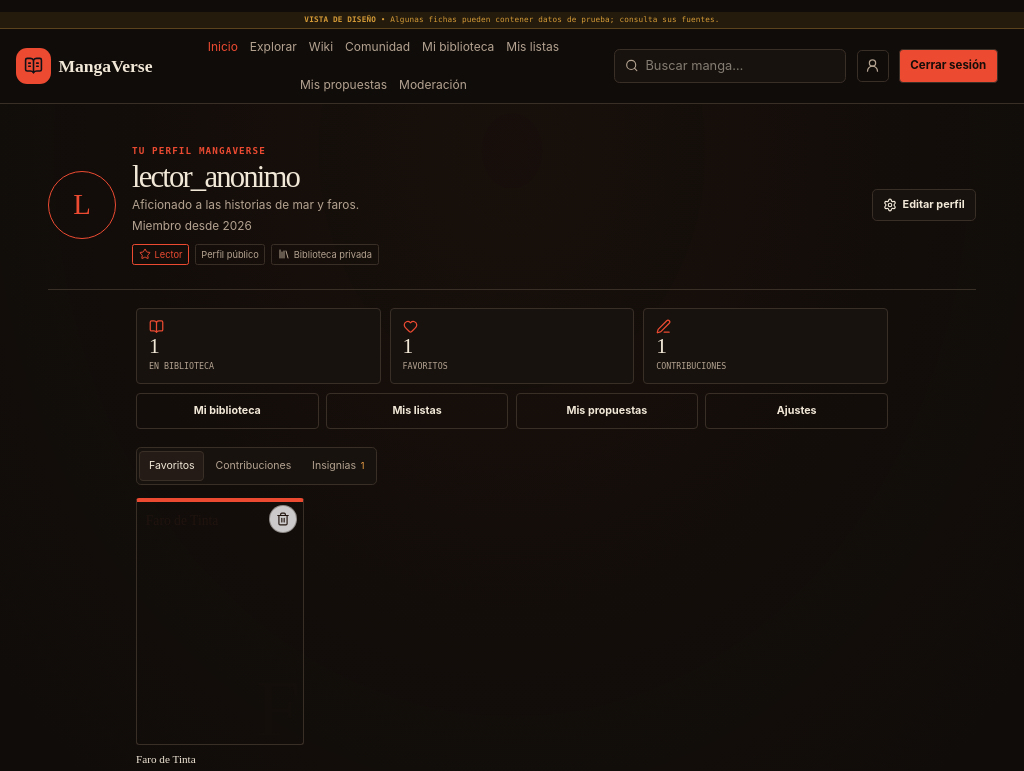
Test: ProfileSettingsPage › shows profile stats and switches between favorites, contributions, and badges
Check: the heading "lector_anonimo" is shown, box [132,160,299,194]
Check: the text "Aficionado a las historias de mar y faros." is shown, box [132,198,359,212]
What coordinates should you click on to do the following:
click the tab "Contribuciones"
I would click on:
 (253, 466)
Its box is [207,452,300,480].
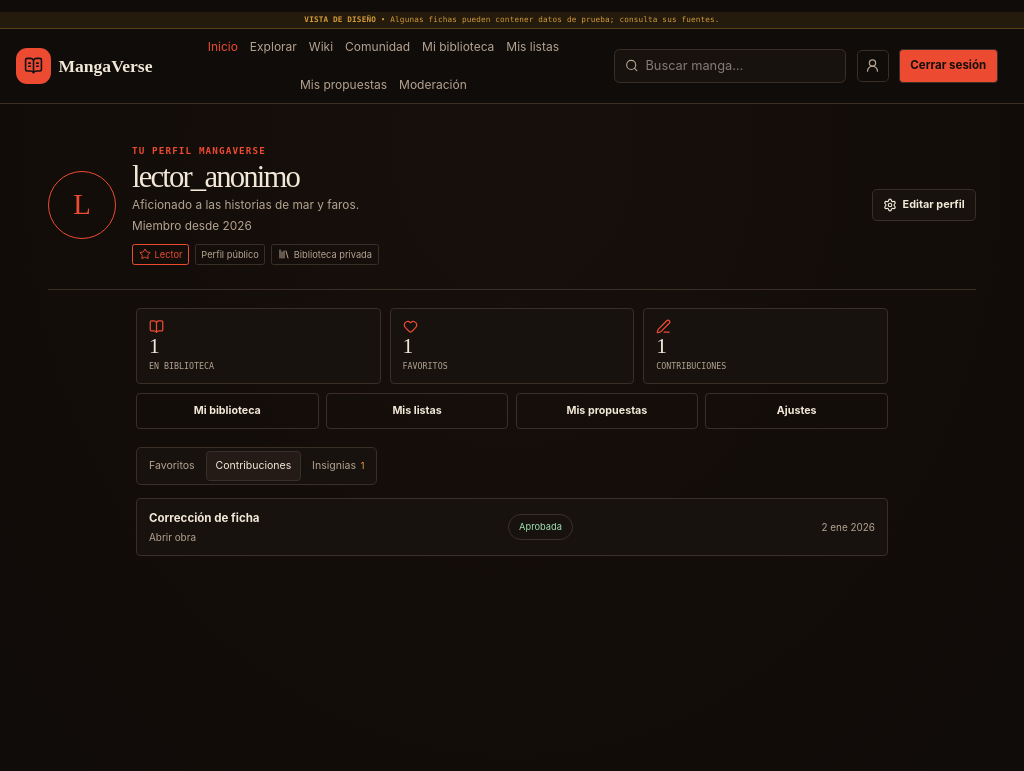
Check: the text "Corrección de ficha" is shown, box [149,510,260,527]
What coordinates should you click on to do the following:
click the tab "Insignias 1"
I would click on:
 (338, 466)
Its box is [303,452,373,480].
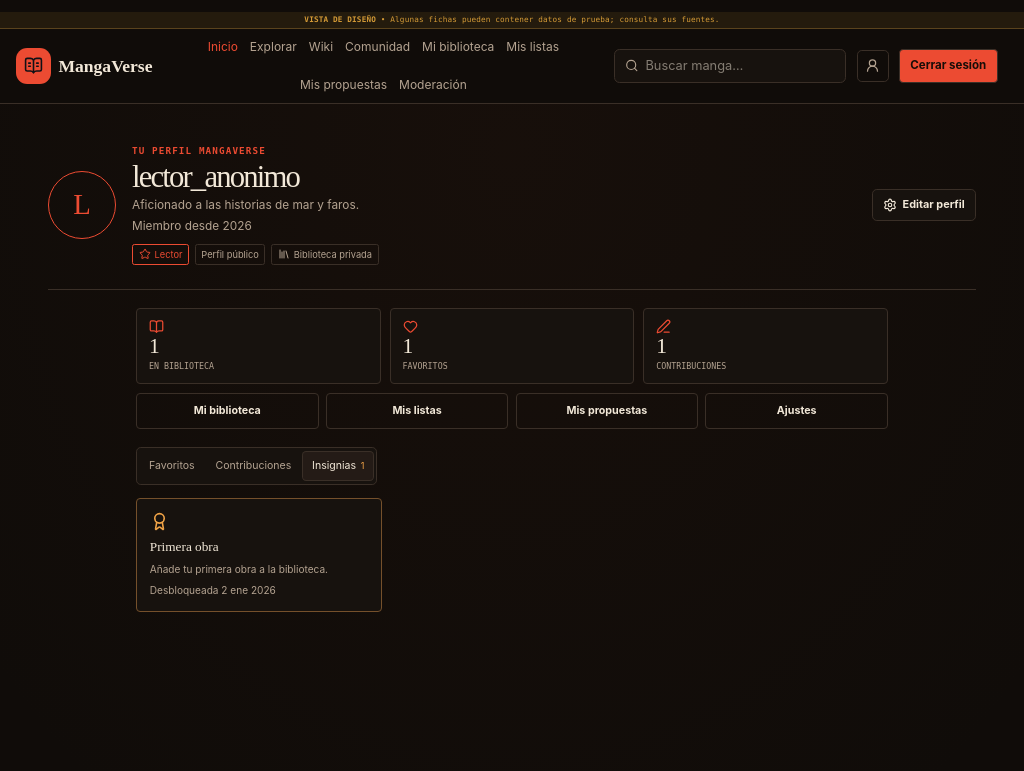
Check: the text "Primera obra" is shown, box [150,536,219,556]
